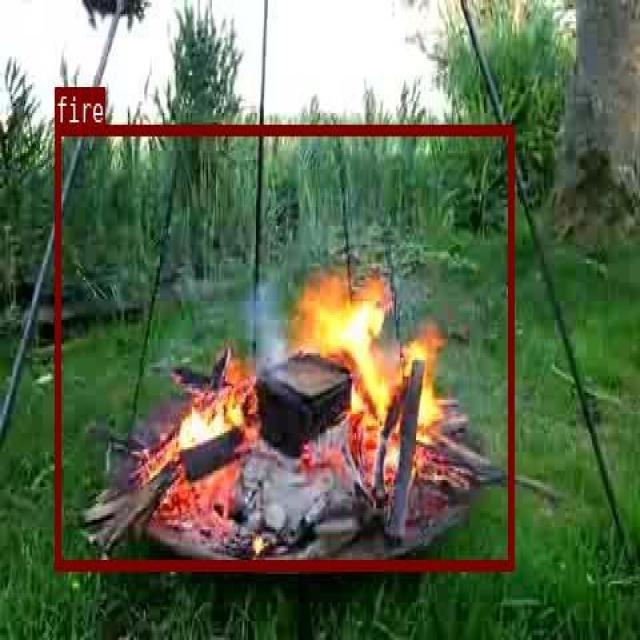fire: (54, 124, 513, 569)
